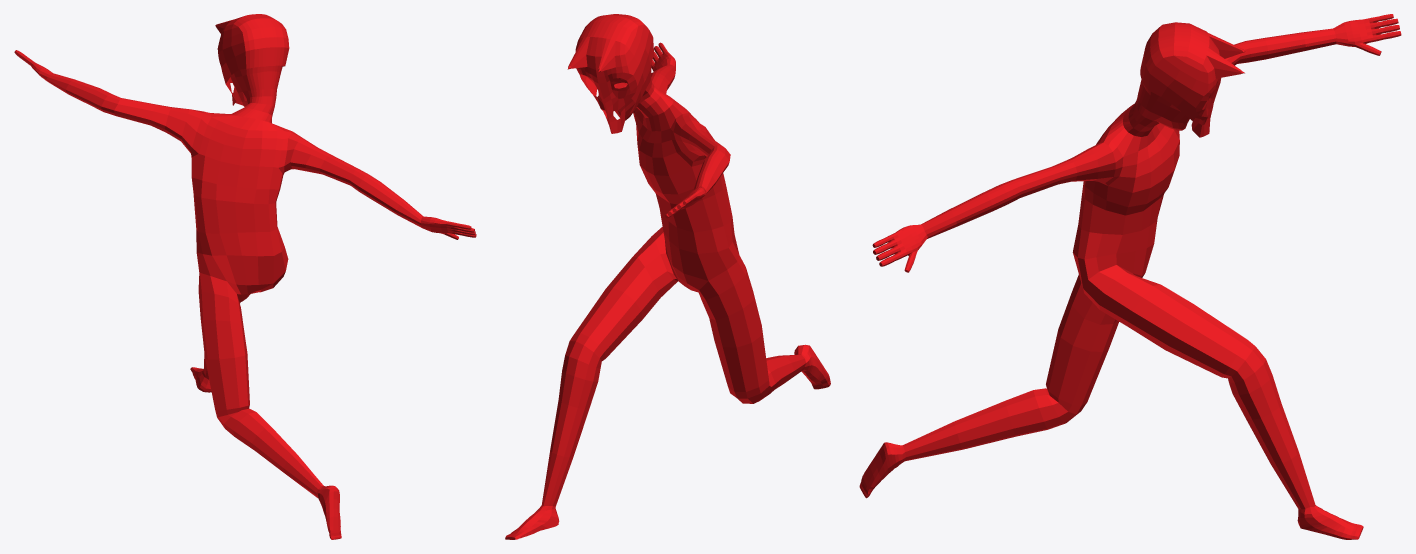
File: saltoadelanteE_000115.obj
3 views of the same model, side by side, from view 1: azimuth 30°, elevation 25°; view 2: azimuth 150°, elevation 25°; view 3: azimuth 270°, elevation 25° (orthographic). The views are drawn at different scales.
Parts seen in each view (by area): view 1: Plane.002_Plane.001; view 2: Plane.002_Plane.001; view 3: Plane.002_Plane.001.
Boxes of the visible parts, bbox=[...] form: Plane.002_Plane.001: bbox=[14, 14, 476, 539]; Plane.002_Plane.001: bbox=[505, 14, 830, 539]; Plane.002_Plane.001: bbox=[859, 14, 1401, 539].
Bounding box in the file's own units: 3.63 × 5.81 × 5.72.
